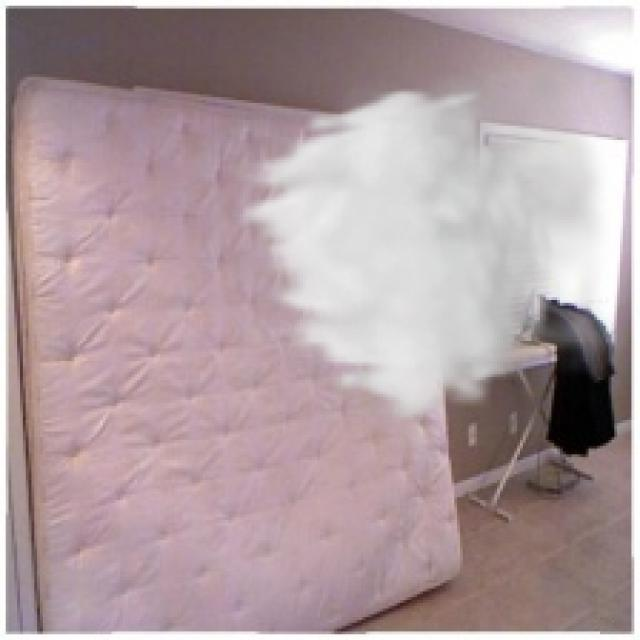smoke: (229, 14, 634, 426)
